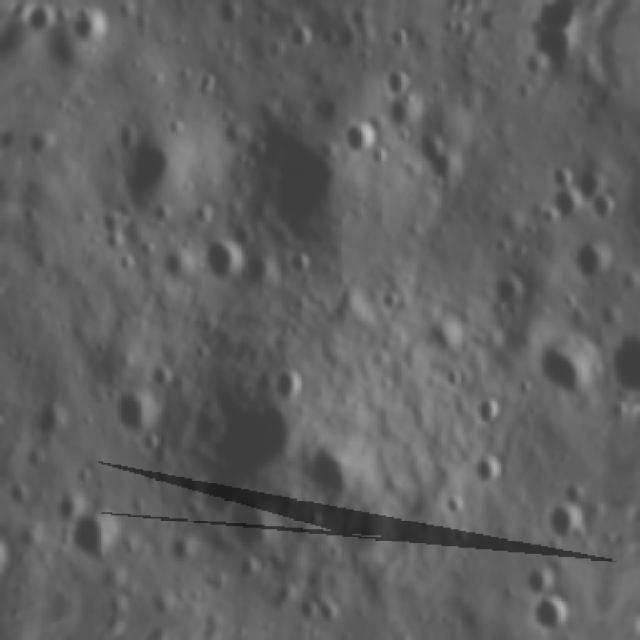crater: (224, 103, 362, 252), (196, 394, 307, 495), (114, 129, 188, 217), (300, 438, 366, 520), (527, 332, 596, 402), (407, 119, 465, 198), (67, 497, 127, 571), (219, 494, 276, 564), (525, 26, 586, 77), (108, 386, 164, 440), (194, 234, 243, 292), (232, 246, 282, 300), (67, 3, 116, 57), (526, 590, 577, 639), (572, 236, 616, 292), (338, 111, 382, 166), (265, 362, 310, 408), (546, 504, 596, 545), (31, 400, 75, 446), (513, 558, 558, 602), (468, 450, 508, 495), (545, 184, 584, 230), (155, 242, 194, 288), (472, 394, 510, 431), (379, 61, 415, 99), (587, 191, 619, 231), (2, 476, 36, 513), (52, 488, 80, 528), (284, 18, 314, 54), (144, 360, 176, 391), (386, 21, 416, 54), (213, 0, 244, 31), (0, 527, 11, 599), (635, 41, 640, 79), (0, 440, 3, 486)
